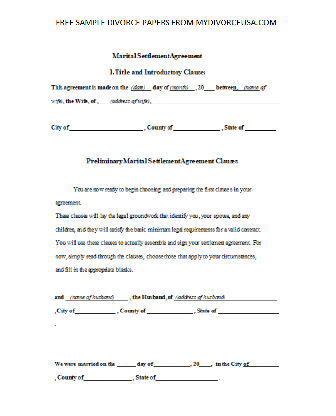textline: (98, 97, 279, 105), (173, 292, 277, 302), (155, 372, 219, 382), (217, 306, 279, 316), (69, 124, 146, 132), (64, 293, 129, 302), (83, 373, 133, 382), (172, 124, 220, 132), (146, 307, 194, 315), (74, 307, 116, 315), (153, 360, 192, 368), (242, 360, 280, 368), (244, 123, 276, 132), (232, 84, 260, 92), (169, 84, 195, 92), (130, 84, 152, 91), (116, 361, 137, 368), (50, 98, 64, 105), (203, 84, 215, 92), (198, 361, 211, 368)
